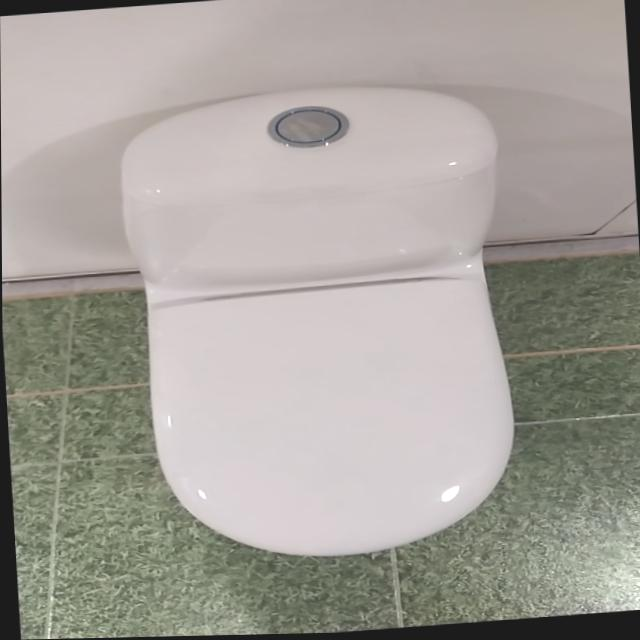toilet: (114, 75, 524, 572)
